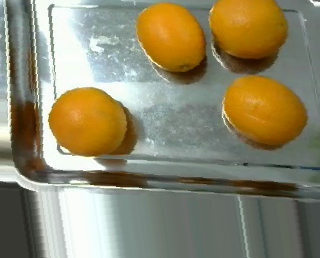Orange: (223, 75, 309, 146), (49, 86, 127, 155), (136, 2, 206, 72), (208, 1, 289, 58)
